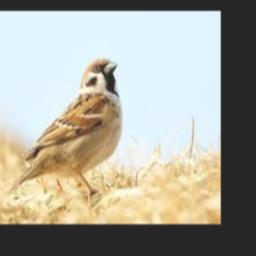Sparrow: (6, 59, 122, 197)
